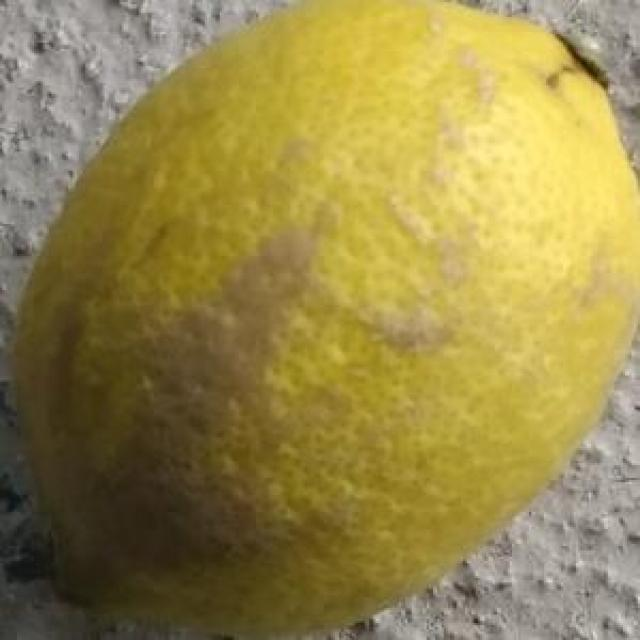lemon: (8, 1, 640, 636)
